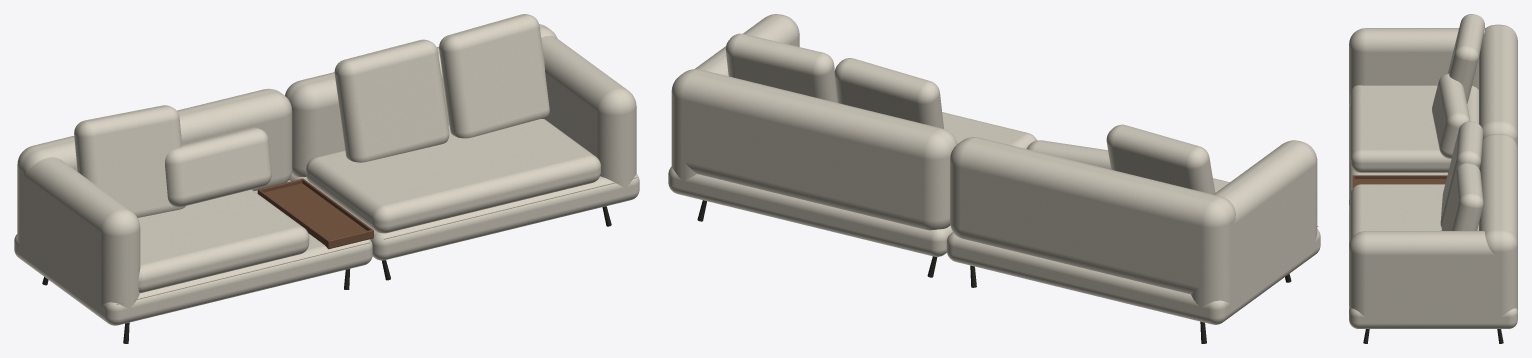
The model's file is sysdesign-ella-4s-left-tray.glb.
3 renders of one model, left to right at view 1: azimuth 30°, elevation 25°; view 2: azimuth 150°, elevation 25°; view 3: azimuth 270°, elevation 25°, orthographic. The views are drawn at different scales.
Parts seen in each view (by area): view 1: included soft cushion (×4), single broad seat cushion (×2), rounded outer arm (×2), module upholstered base (×2), rounded upholstered back (×2), walnut tray bottom, Sysdesign Ella 4 seat oat beige left-tray, tray raised long edge; view 2: rounded upholstered back (×2), included soft cushion (×4), module upholstered base (×2), rounded outer arm (×2), single broad seat cushion; view 3: rounded outer arm (×2), single broad seat cushion (×2), rounded upholstered back (×2), included soft cushion (×4), module upholstered base (×2), walnut tray bottom, tray raised long edge.
Part boxes in pixels (x1,y1,x2,y2): included soft cushion (×4): [74, 14, 549, 217]; single broad seat cushion (×2): [138, 119, 600, 292]; rounded outer arm (×2): [17, 36, 636, 308]; module upholstered base (×2): [14, 174, 639, 325]; rounded upholstered back (×2): [17, 24, 557, 228]; walnut tray bottom: [264, 183, 373, 249]; Sysdesign Ella 4 seat oat beige left-tray: [116, 177, 637, 304]; tray raised long edge: [257, 189, 329, 245]; rounded upholstered back (×2): [671, 69, 1235, 294]; included soft cushion (×4): [725, 33, 1215, 194]; module upholstered base (×2): [668, 166, 1320, 324]; rounded outer arm (×2): [671, 14, 1317, 307]; single broad seat cushion: [942, 112, 1036, 148]; rounded outer arm (×2): [1349, 28, 1517, 317]; single broad seat cushion (×2): [1350, 85, 1478, 239]; rounded upholstered back (×2): [1479, 24, 1517, 301]; included soft cushion (×4): [1432, 14, 1484, 230]; module upholstered base (×2): [1349, 105, 1517, 328]; walnut tray bottom: [1354, 179, 1446, 186]; tray raised long edge: [1354, 175, 1447, 178].
Size of the model in its own units: 2.9 by 0.8848 by 0.95.
4 materials, 1 textured.
